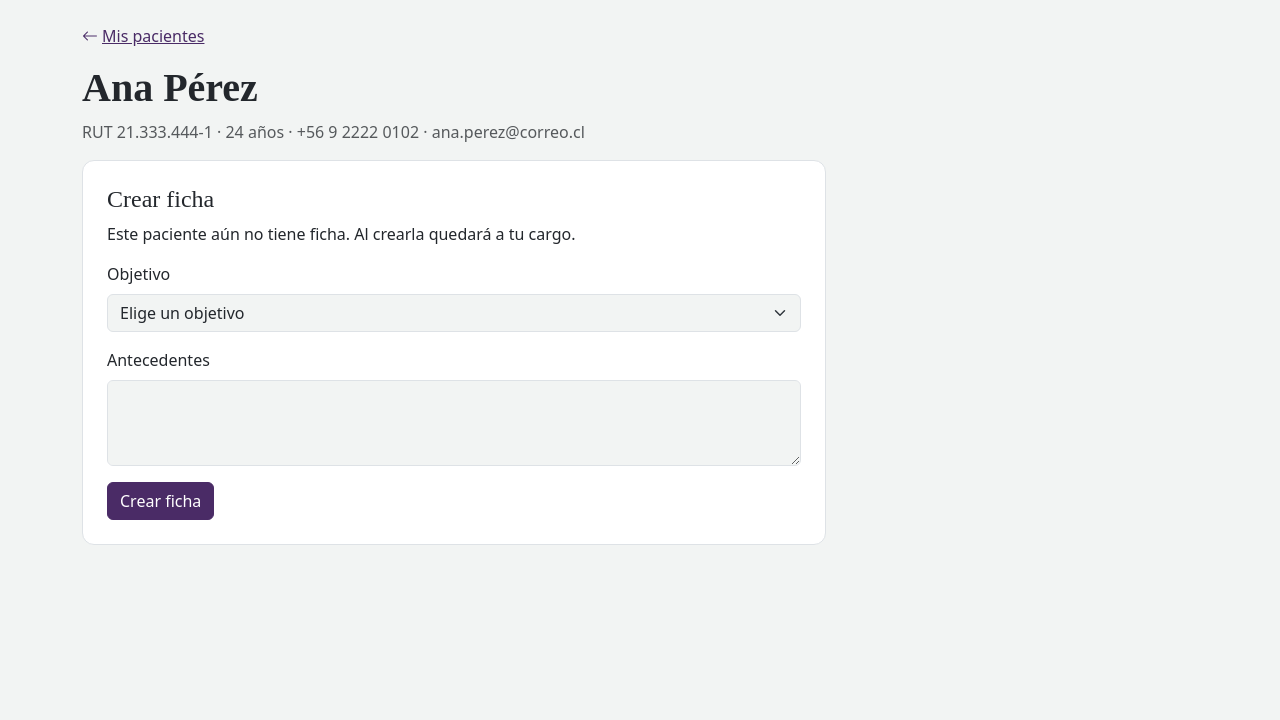
Test: FichaPaciente › si el paciente no tiene ficha permite crearla a cargo del nutricionista en sesión
Expected: the heading "Crear ficha" is shown, [107, 186, 214, 212]
Select "Alimentación vegetariana o vegana" in the dropdown labelled "Objetivo" at (454, 313), box [107, 294, 801, 332]
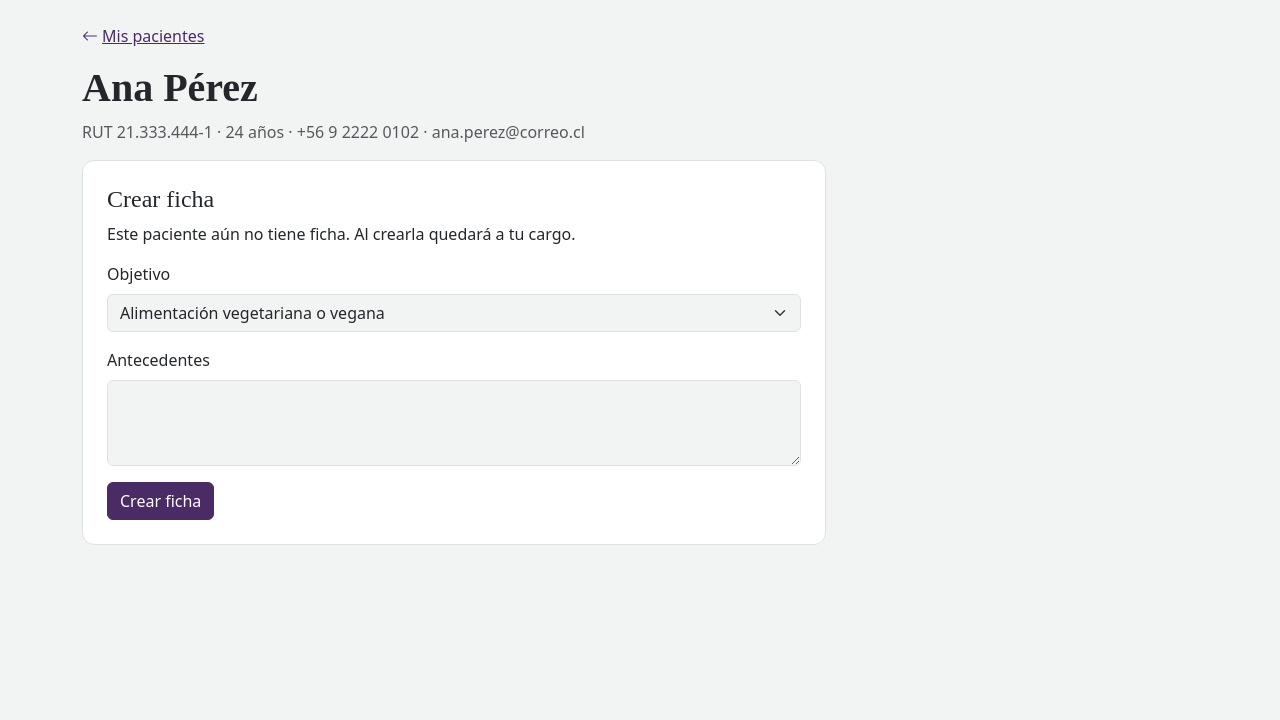
Type "Vegana desde hace 6 meses." into the text box labelled "Antecedentes" at (454, 423), box [107, 380, 801, 466]
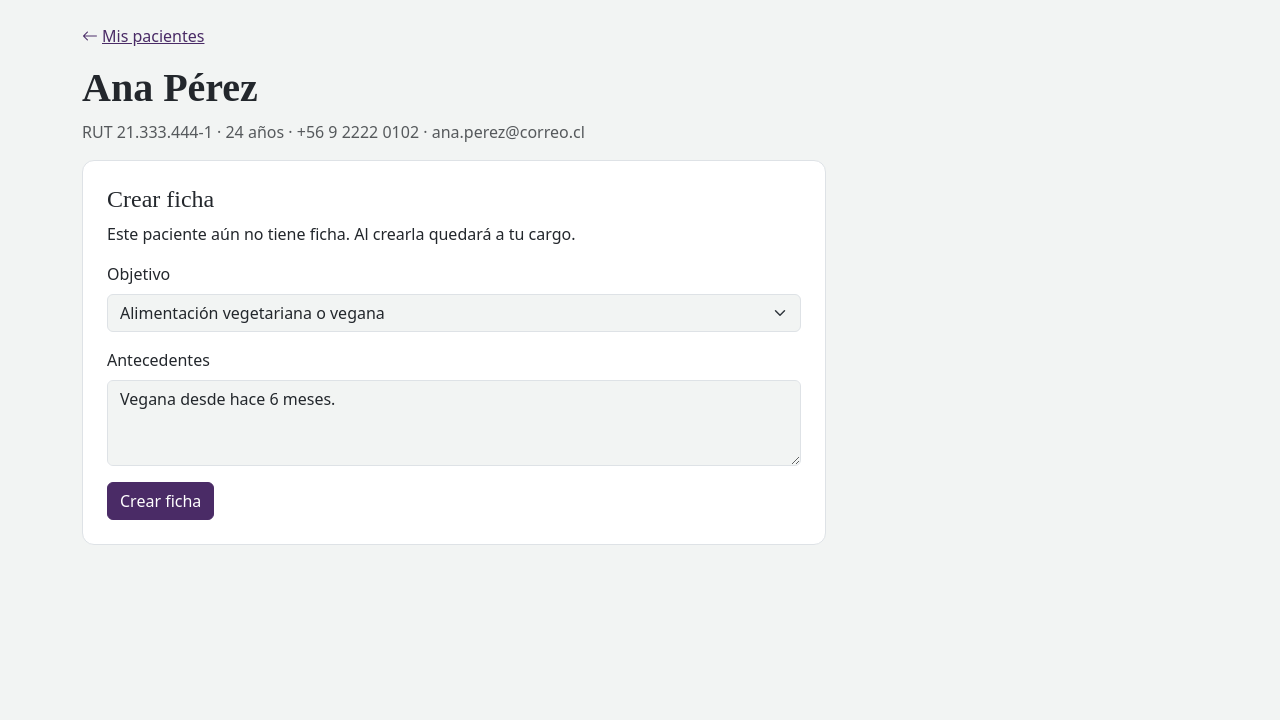
Click the button "Crear ficha" at (161, 501), box [107, 482, 214, 520]
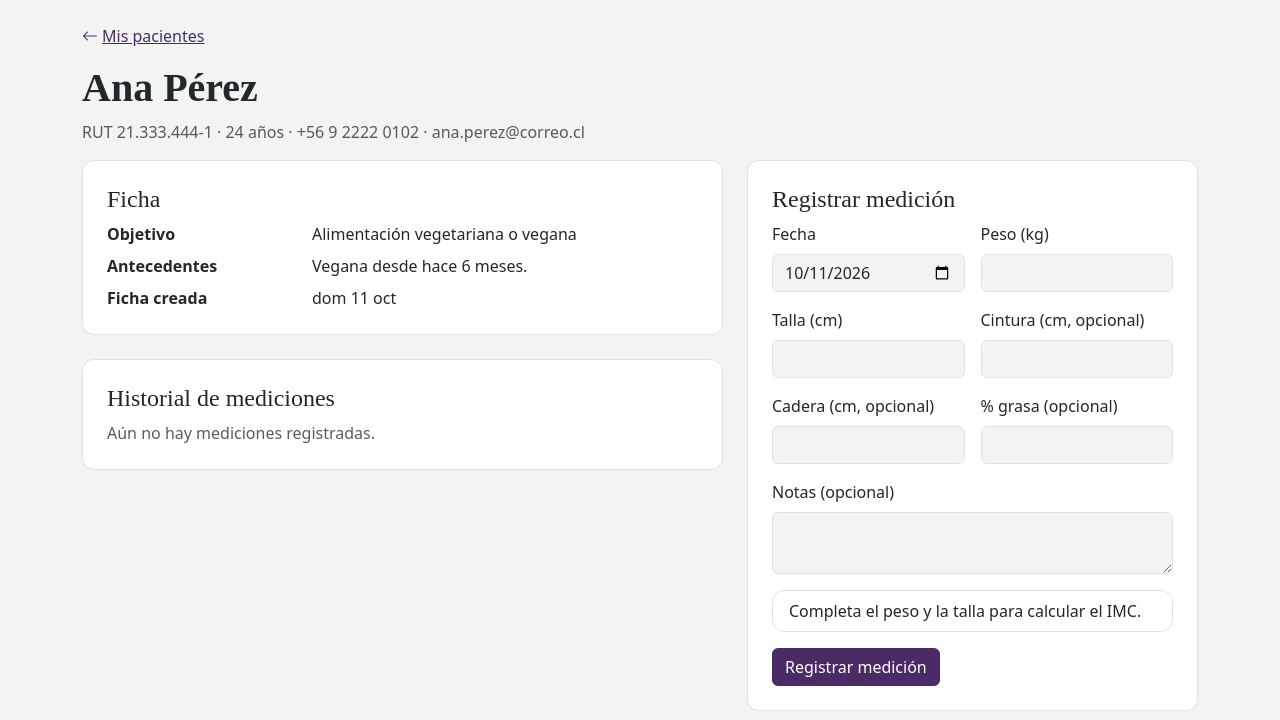
Expected: the heading "Ficha" is shown, [107, 186, 160, 212]
Expected: the text "Alimentación vegetariana o vegana" is shown, [312, 223, 577, 245]
Expected: the text "Aún no hay mediciones registradas." is shown, [107, 422, 375, 444]
